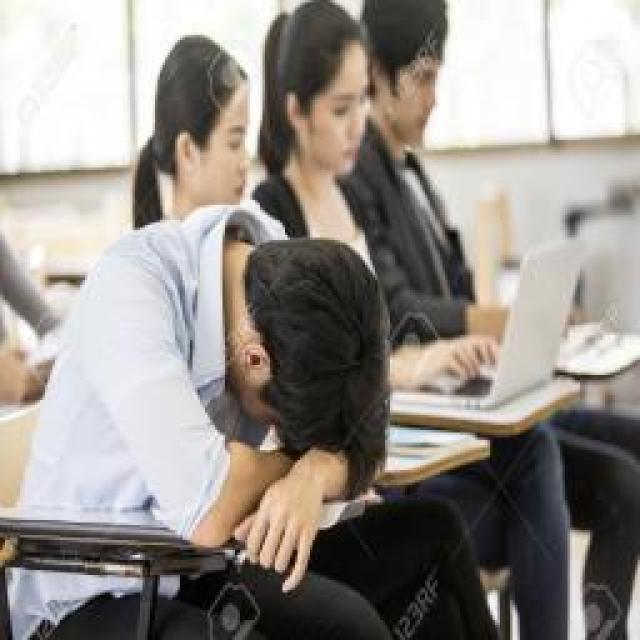sleep: (42, 200, 390, 565)
